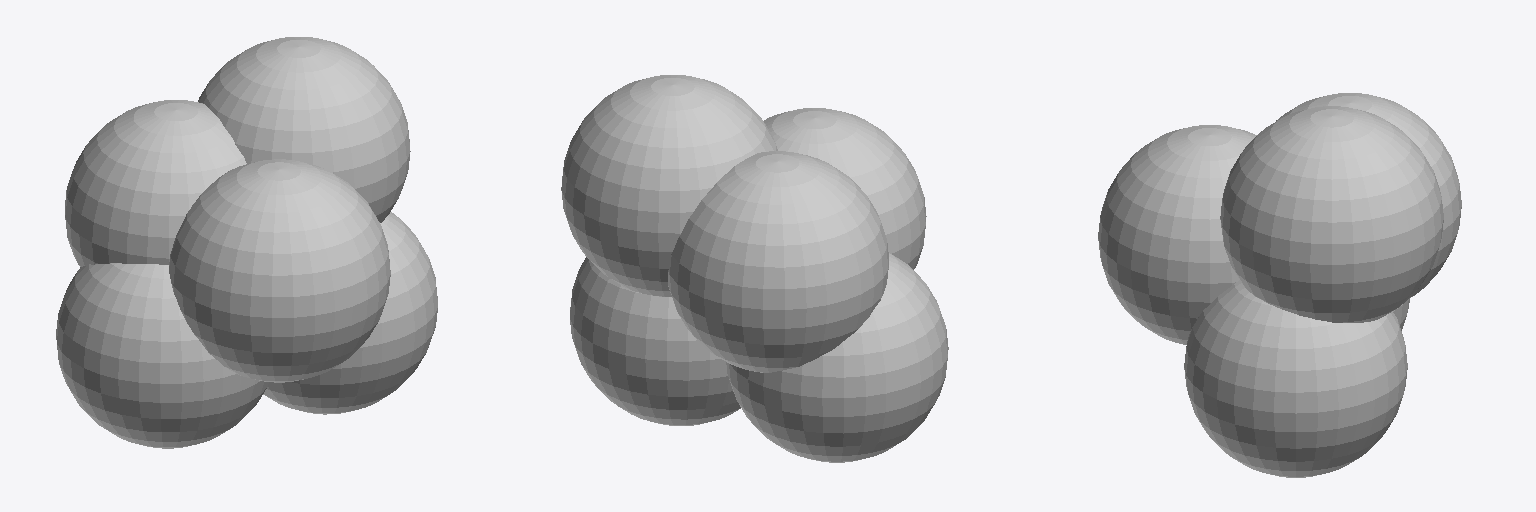
The model's file is leaves.obj.
The picture shows the model from 3 angles: view 1: azimuth 30°, elevation 25°; view 2: azimuth 150°, elevation 25°; view 3: azimuth 270°, elevation 25°; orthographic projection.
Parts seen in each view (by area): view 1: Sphere; view 2: Sphere; view 3: Sphere.
Boxes of the visible parts, x1=… form: Sphere: x1=56, y1=37, x2=437, y2=448; Sphere: x1=561, y1=75, x2=948, y2=462; Sphere: x1=1098, y1=93, x2=1461, y2=477.
Bounding box in the file's own units: 7.25 × 6.83 × 6.51.